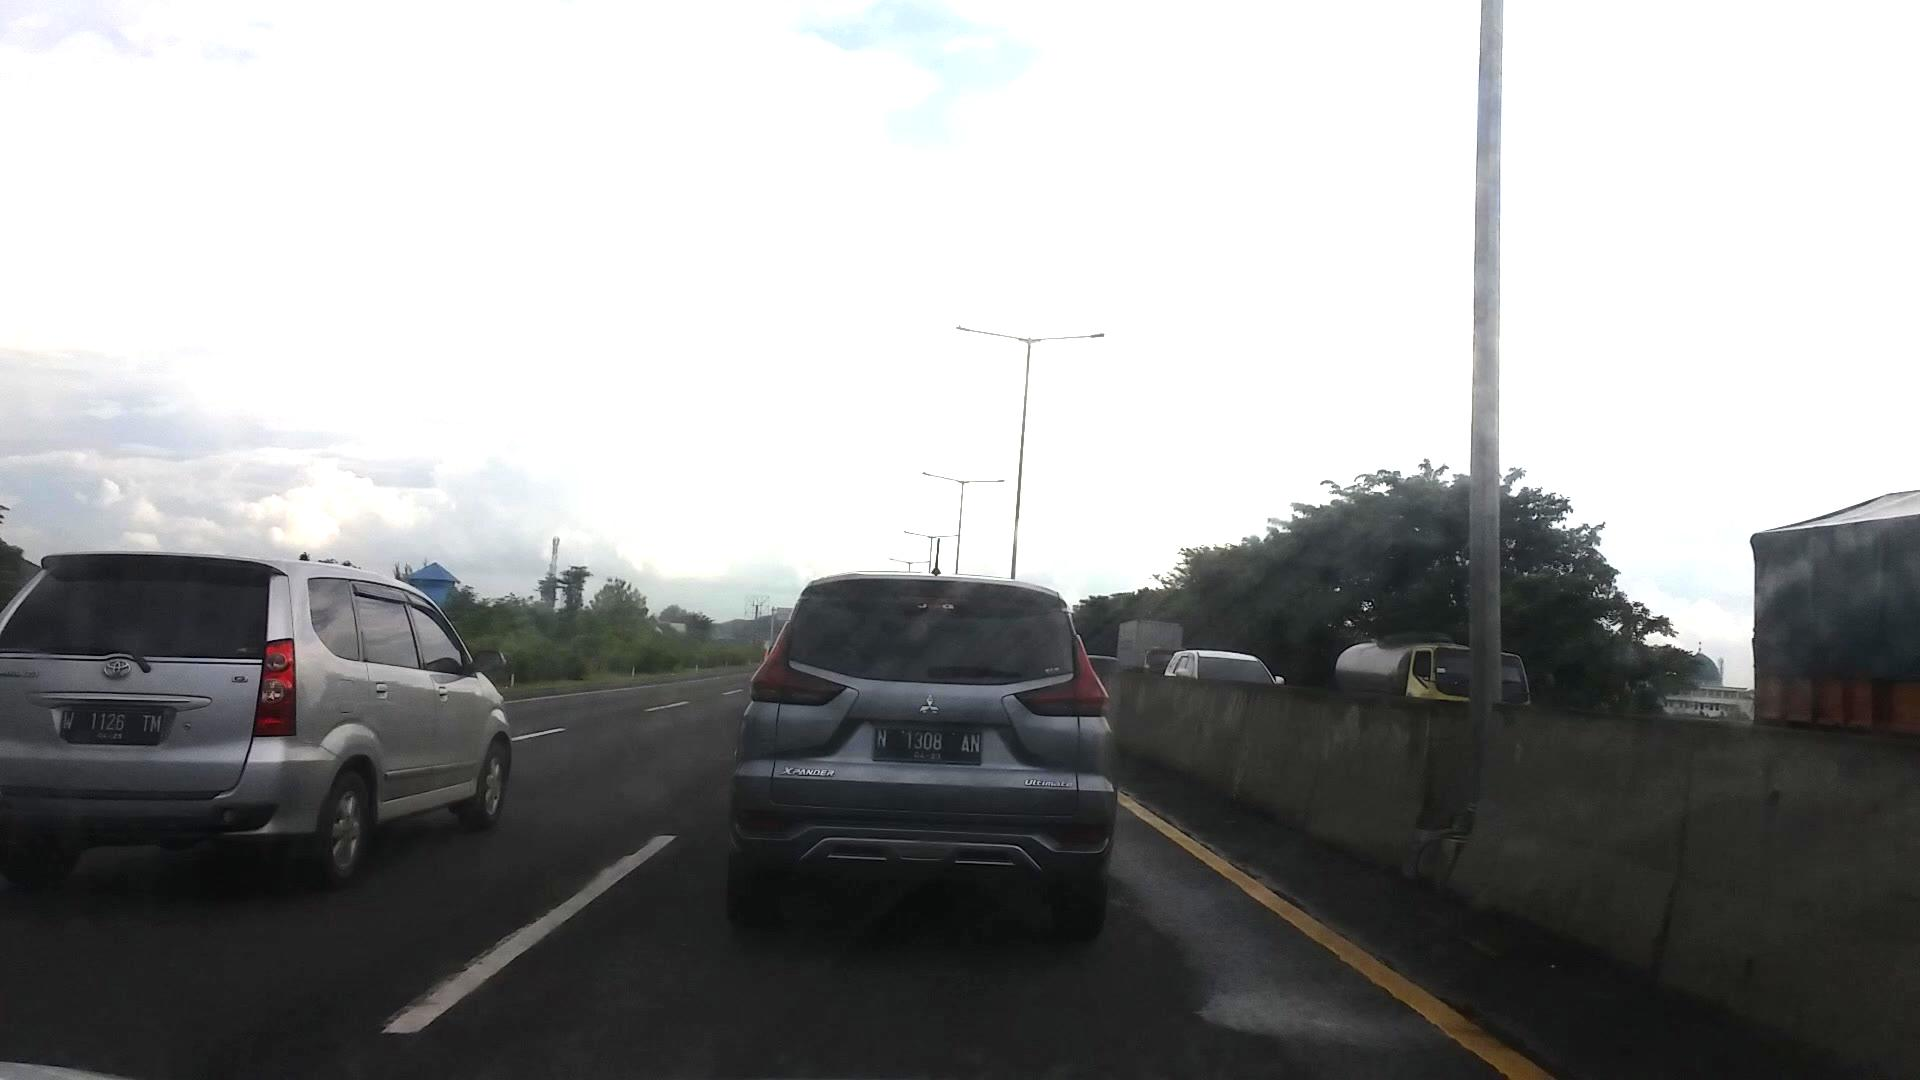plate_positive: (872, 727, 981, 765), (61, 708, 162, 744)
